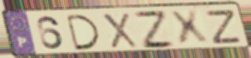6: (36, 15, 66, 52)
D: (64, 14, 102, 52)
X: (166, 9, 212, 48), (100, 12, 140, 50)
Z: (132, 10, 178, 51), (205, 8, 244, 45)
